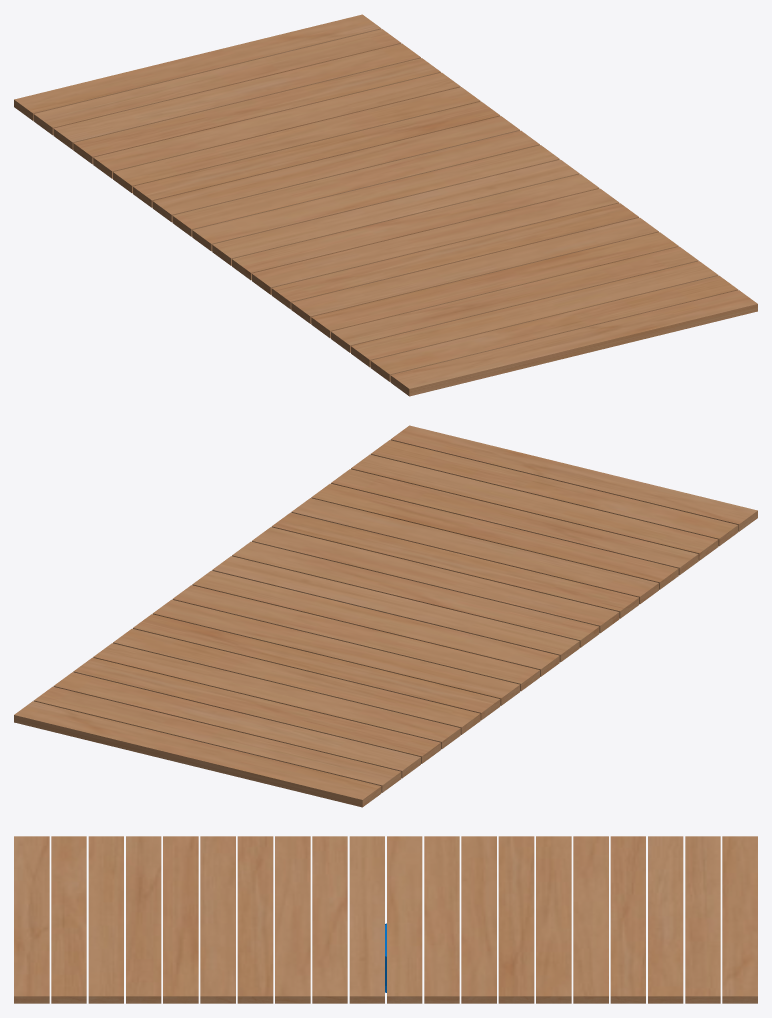
The model's file is DT full floor kit.glb.
The picture shows the model from 3 angles, top to bottom: view 1: azimuth 30°, elevation 25°; view 2: azimuth 150°, elevation 25°; view 3: azimuth 270°, elevation 25°; orthographic projection. The views are drawn at different scales.
Parts seen in each view (by area): view 1: DT full floor kit; view 2: DT full floor kit; view 3: DT full floor kit.
Boxes of the visible parts, box(x1,y1,x2,y2) form: DT full floor kit: box(14, 14, 757, 396); DT full floor kit: box(14, 425, 757, 807); DT full floor kit: box(14, 836, 757, 1003).
Bounding box in the file's own units: 1.48 × 0.3359 × 2.9.
Materials: 2 (1 with a texture image).
